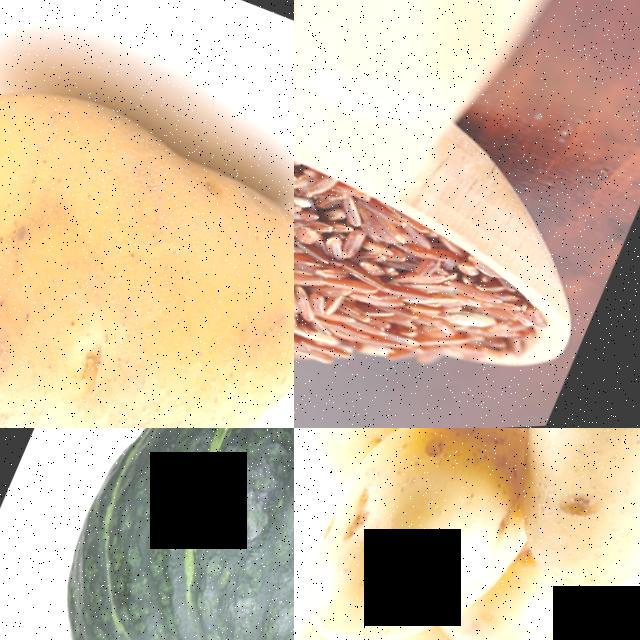potato: (0, 8, 294, 428), (294, 428, 555, 640), (478, 428, 640, 634)
pumpkin: (0, 428, 294, 640)
red rice: (294, 63, 557, 428)
